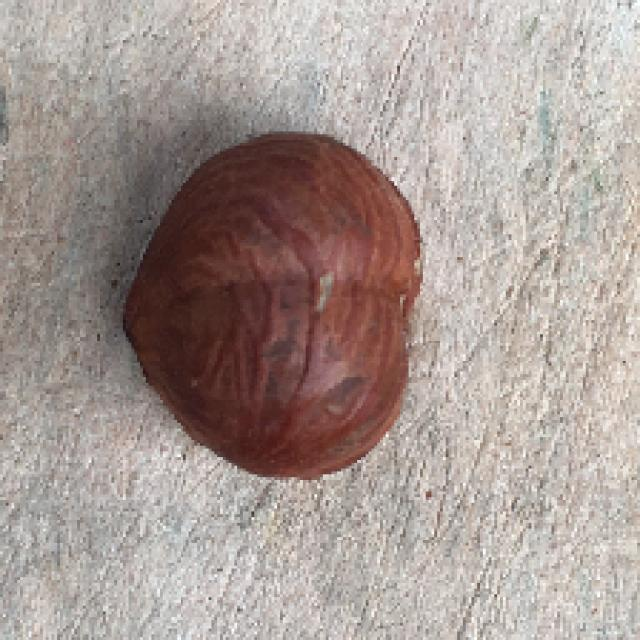hazelnut: (115, 122, 426, 486)
